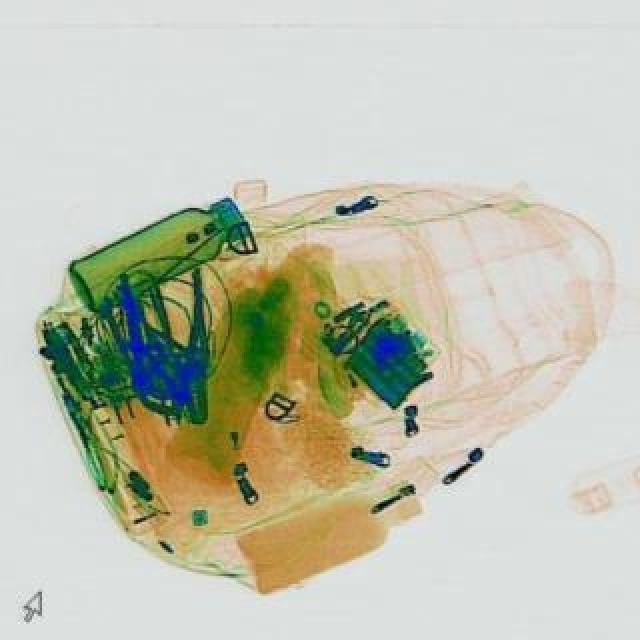wrench: (122, 266, 214, 426), (148, 266, 228, 422)
